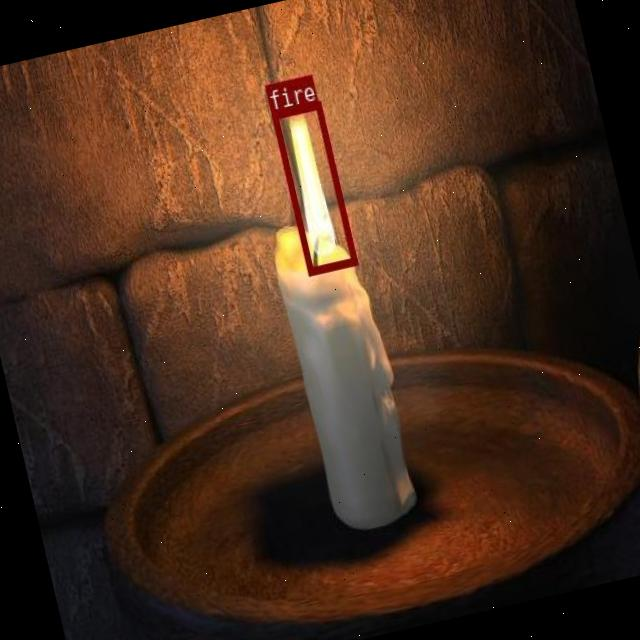fire: (270, 100, 357, 274)
